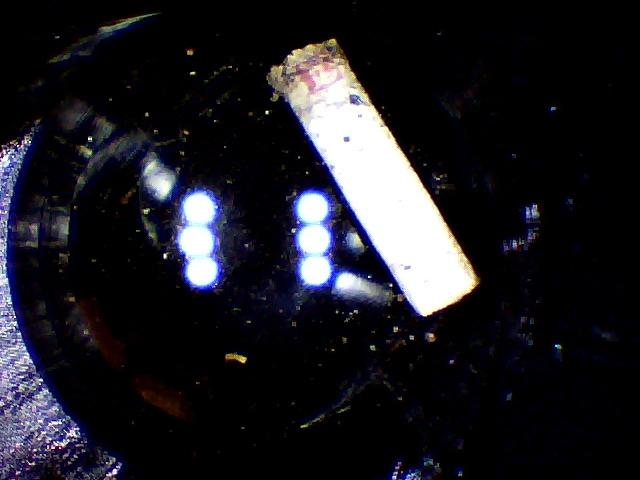megot: (252, 33, 497, 336)
